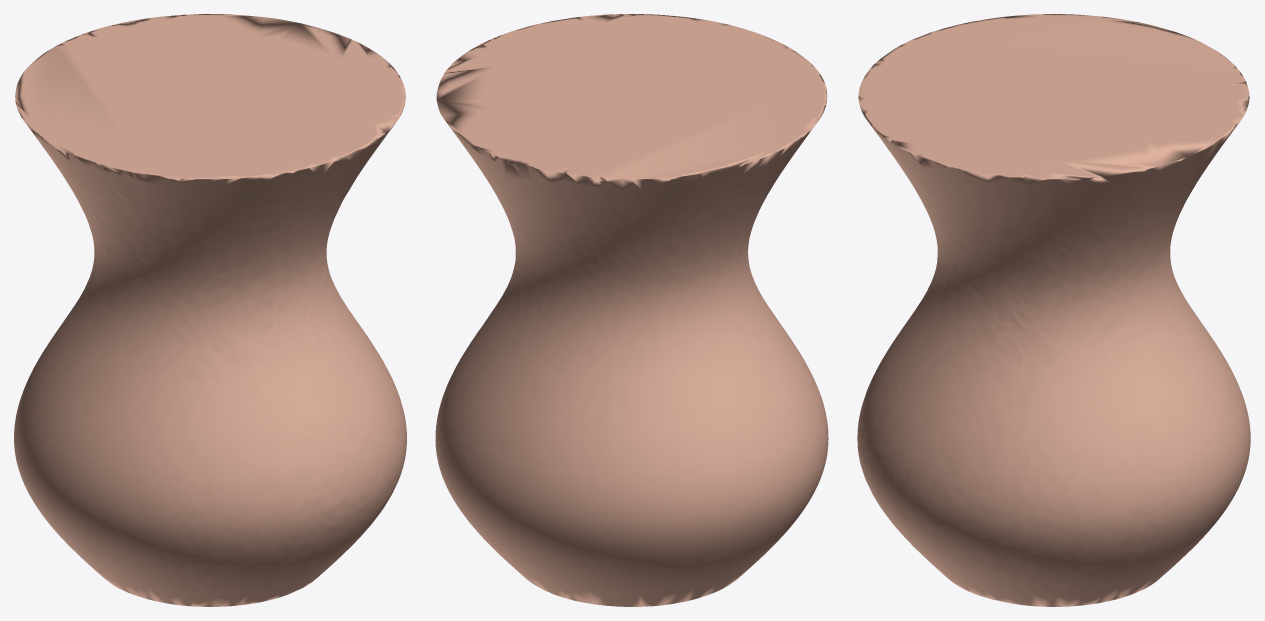
Rendered from wc-revolved-vase-001.glb.
3 renders of one model, left to right at view 1: azimuth 30°, elevation 25°; view 2: azimuth 150°, elevation 25°; view 3: azimuth 270°, elevation 25°, orthographic.
Visible parts, largest first — view 1: wc-revolved-vase-001; view 2: wc-revolved-vase-001; view 3: wc-revolved-vase-001.
Boxes of the visible parts, bbox=[...] form: wc-revolved-vase-001: bbox=[14, 14, 406, 606]; wc-revolved-vase-001: bbox=[435, 14, 828, 606]; wc-revolved-vase-001: bbox=[857, 14, 1250, 606].
Bounding box in the file's own units: 0.2708 × 0.35 × 0.2708.
